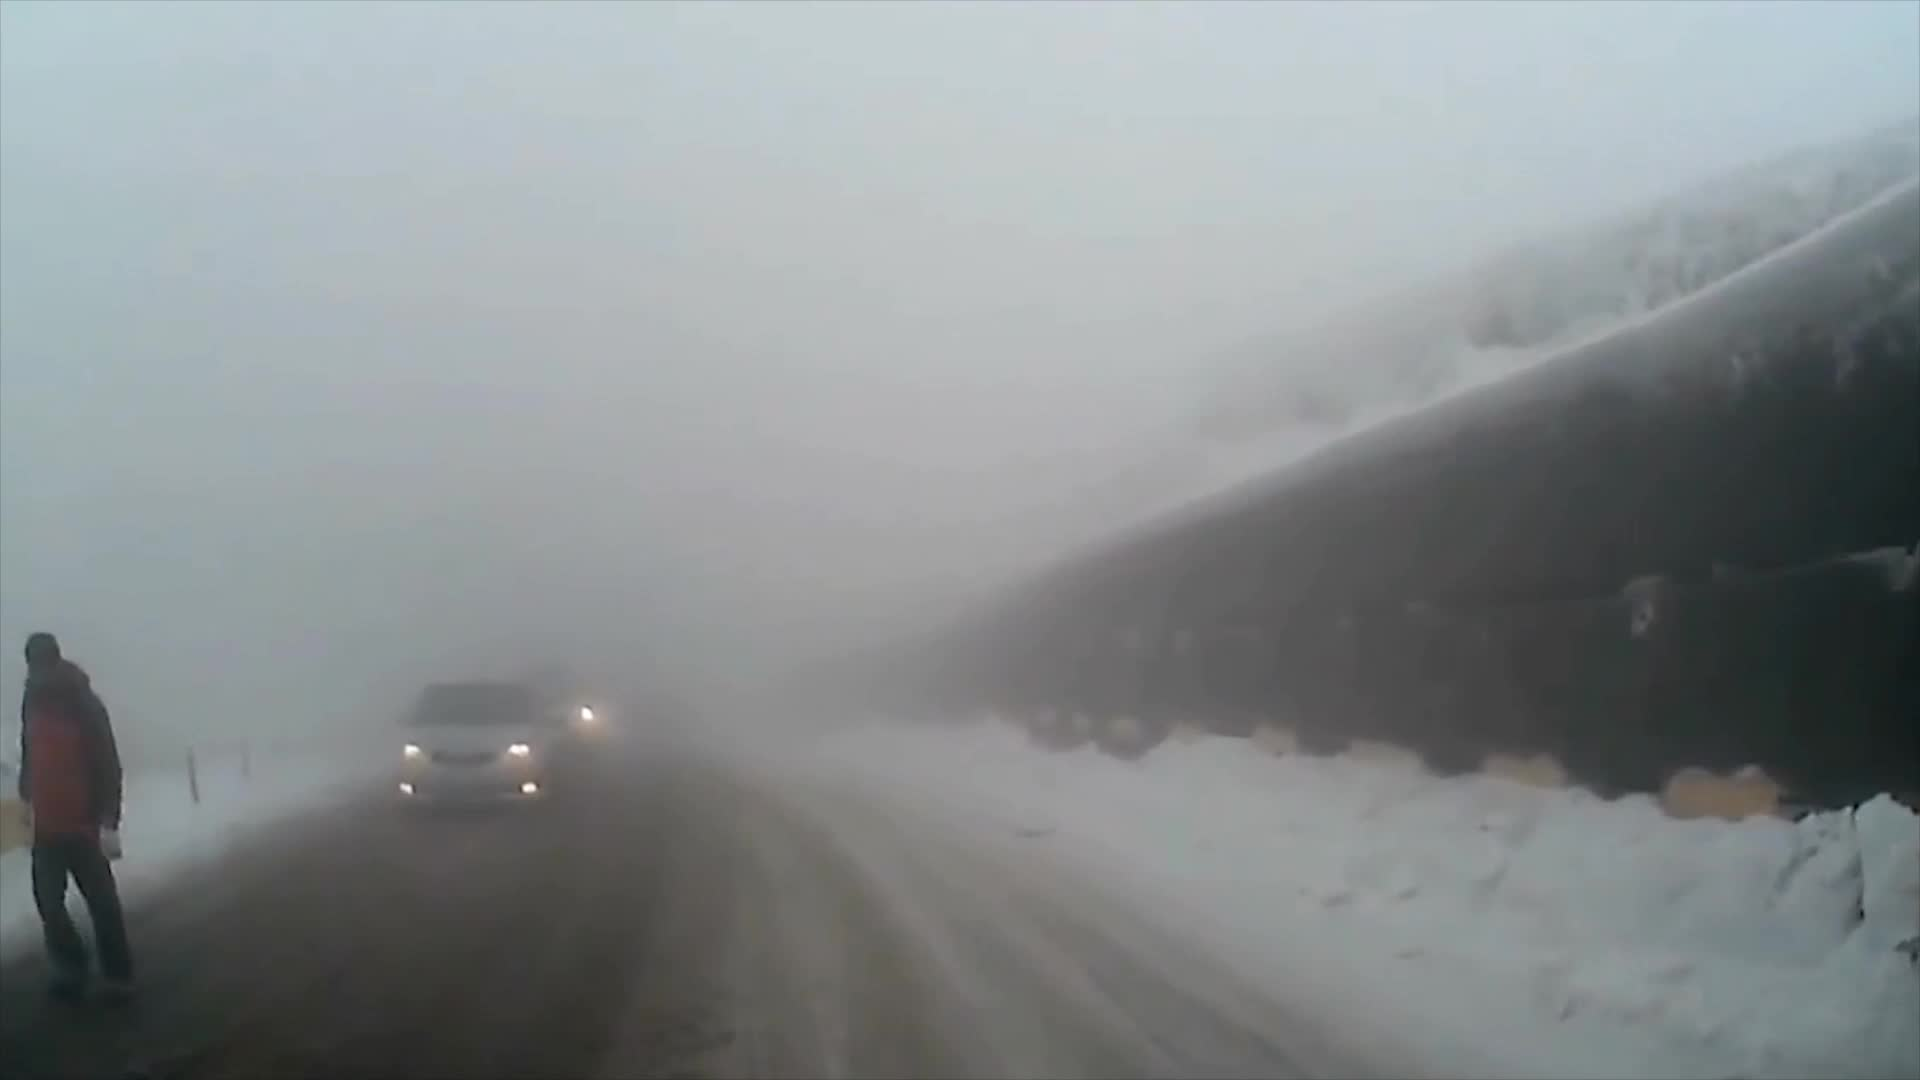pedestrian: (9, 633, 137, 999)
vehicle: (382, 678, 563, 820)
